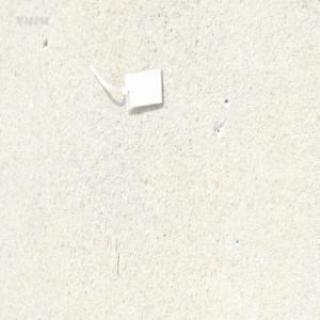LuggageTagtrack_idkeyframe: (86, 62, 163, 111)
